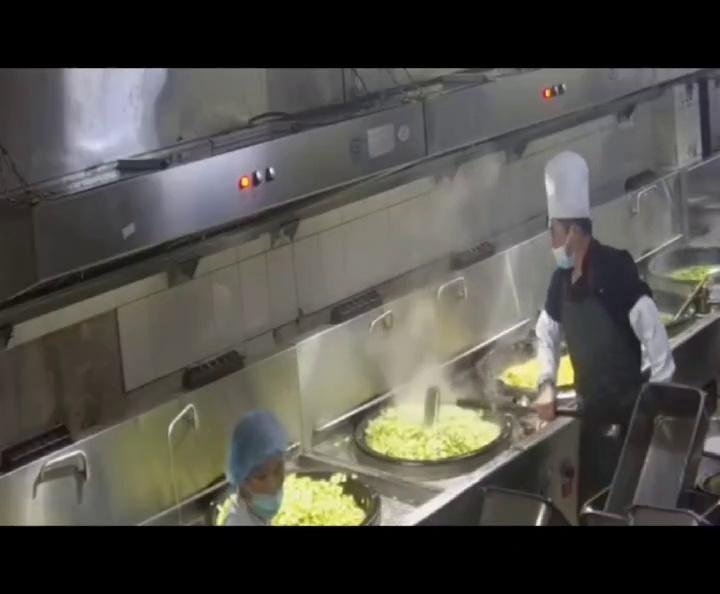mask: (244, 476, 286, 516)
